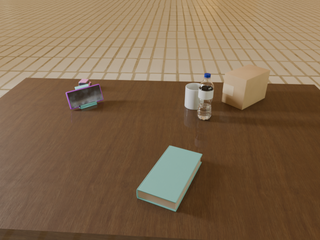book: (137, 146, 202, 212)
bottle: (197, 73, 214, 120)
box: (222, 64, 270, 110)
cup: (185, 83, 200, 110)
phone: (66, 84, 103, 109)
